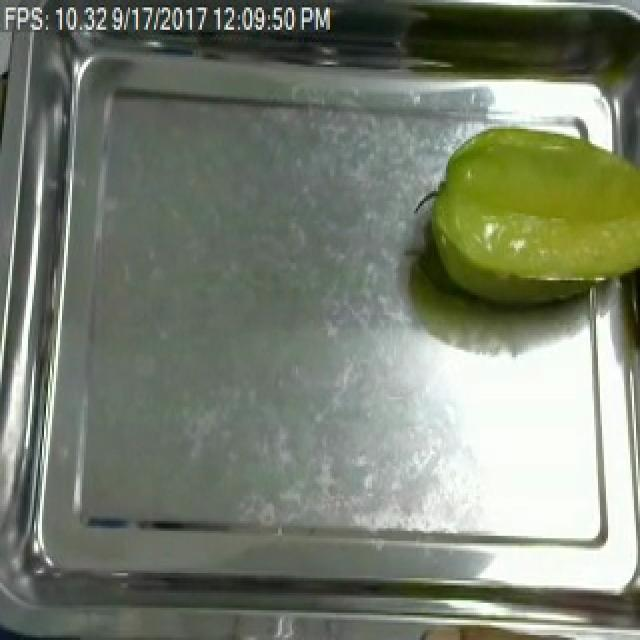fruit: (420, 114, 640, 298)
